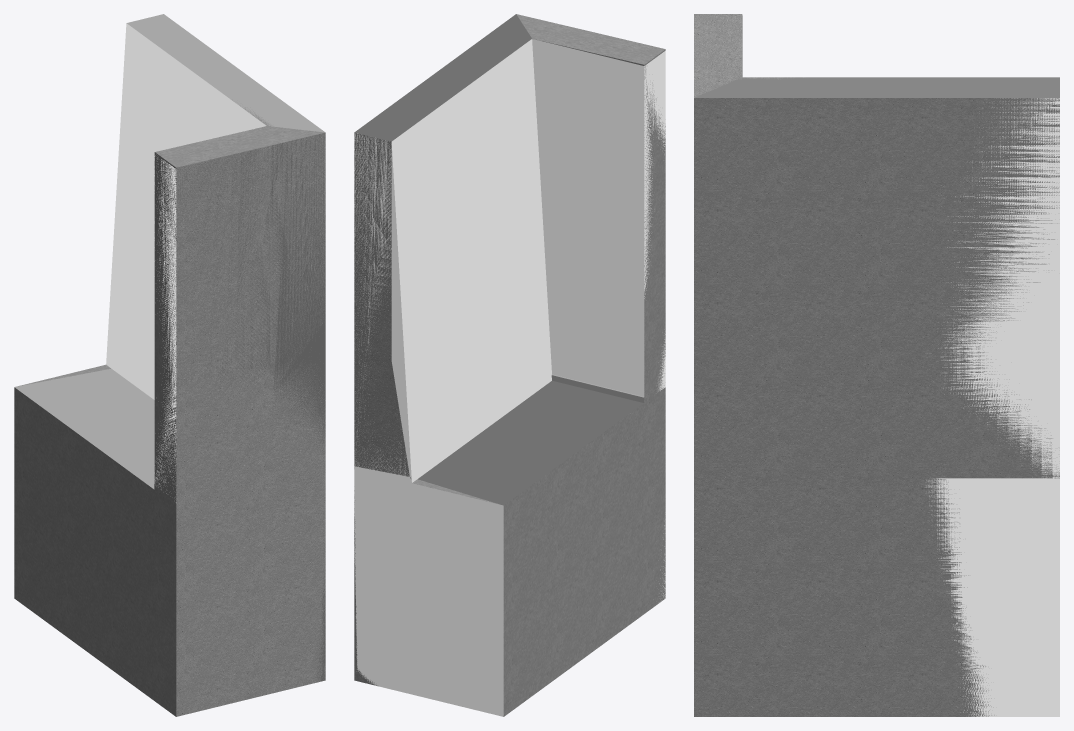
File: SM_Wall_d_1.fbx
3 views of the same model, side by side, from view 1: azimuth 30°, elevation 25°; view 2: azimuth 150°, elevation 25°; view 3: azimuth 270°, elevation 25° (orthographic). The views are drawn at different scales.
Parts seen in each view (by area): view 1: SM_Wall_d_1_LOD0, SM_Wall_d_1_ConvexHulls; view 2: SM_Wall_d_1_ConvexHulls, SM_Wall_d_1_LOD0; view 3: SM_Wall_d_1_LOD0, SM_Wall_d_1_ConvexHulls.
Part boxes in pixels (bbox=[...]): SM_Wall_d_1_LOD0: bbox=[14, 99, 325, 716]; SM_Wall_d_1_ConvexHulls: bbox=[14, 14, 325, 682]; SM_Wall_d_1_ConvexHulls: bbox=[354, 14, 665, 716]; SM_Wall_d_1_LOD0: bbox=[354, 14, 665, 716]; SM_Wall_d_1_LOD0: bbox=[694, 14, 1059, 716]; SM_Wall_d_1_ConvexHulls: bbox=[694, 15, 1059, 716].
Size of the model in its own units: 400 by 750 by 1403.
4 materials, 3 textured.
